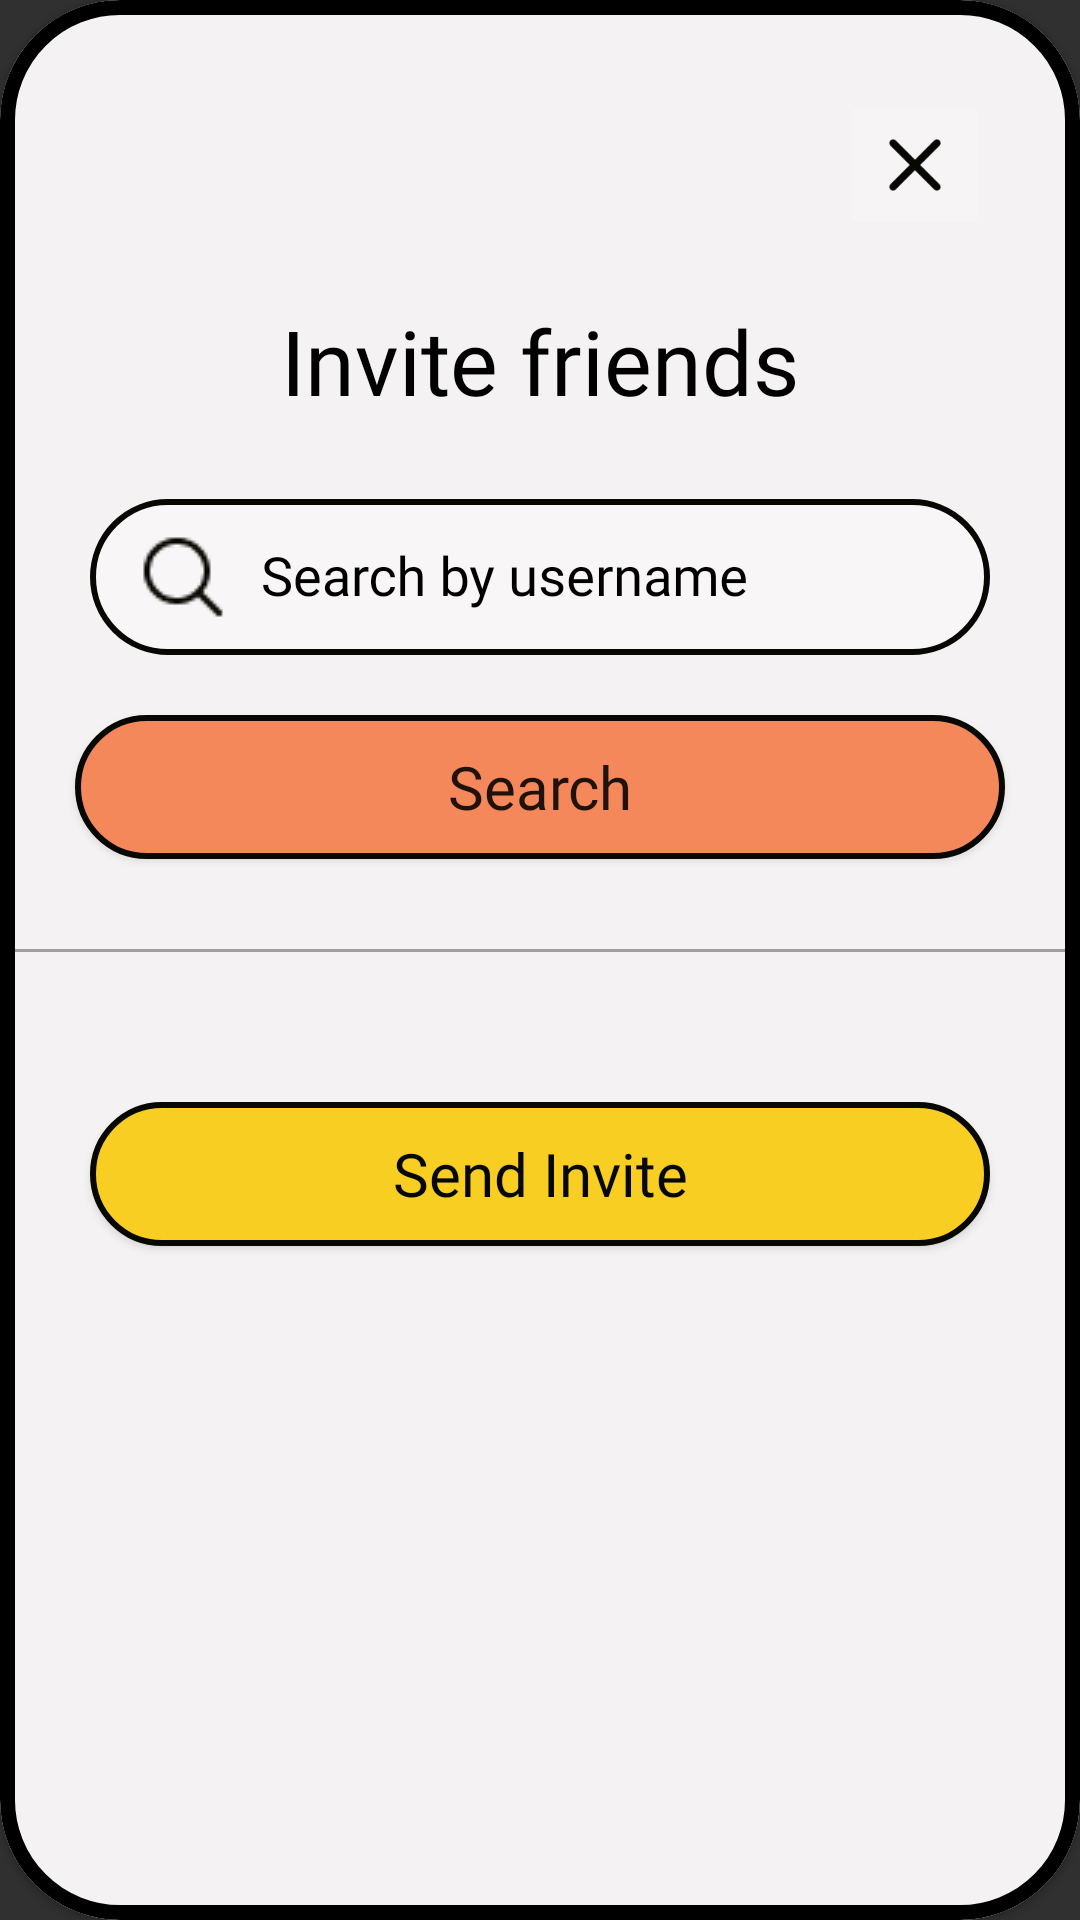

Icons on this 1080 × 1920 Android screen, each with its box as (x1, y1, x2, y2):
close: (889, 139, 941, 191)
